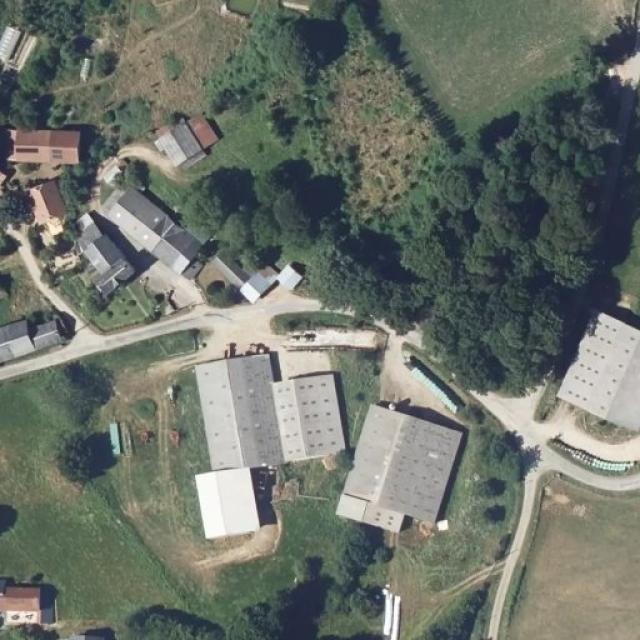ferme: (191, 340, 345, 467), (338, 403, 464, 522), (553, 297, 640, 432), (216, 265, 302, 304), (162, 109, 222, 162)
maison: (75, 158, 214, 292), (113, 182, 211, 272), (0, 307, 69, 366), (0, 118, 80, 166), (25, 172, 66, 228), (0, 582, 48, 626)
